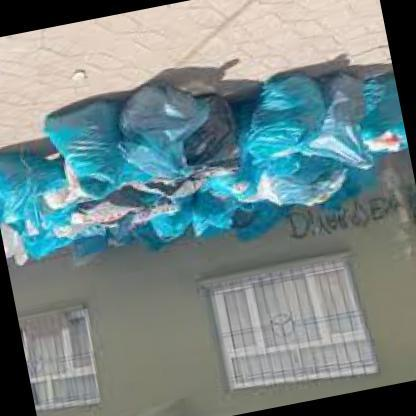Garbage: (0, 63, 360, 272), (232, 49, 352, 166), (306, 61, 399, 172), (157, 110, 254, 205), (62, 104, 134, 202), (132, 66, 186, 180), (264, 146, 346, 210), (353, 71, 408, 163), (0, 158, 68, 232), (0, 149, 61, 226), (181, 186, 252, 239), (102, 194, 180, 242)
